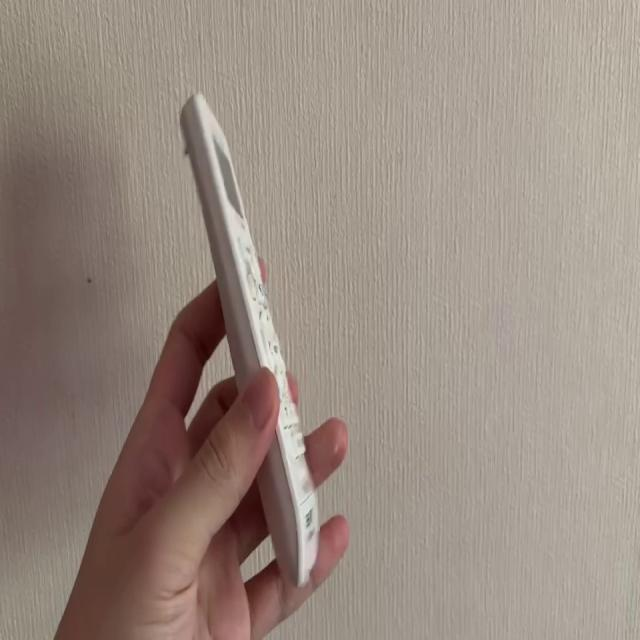remote: (179, 95, 322, 586)
